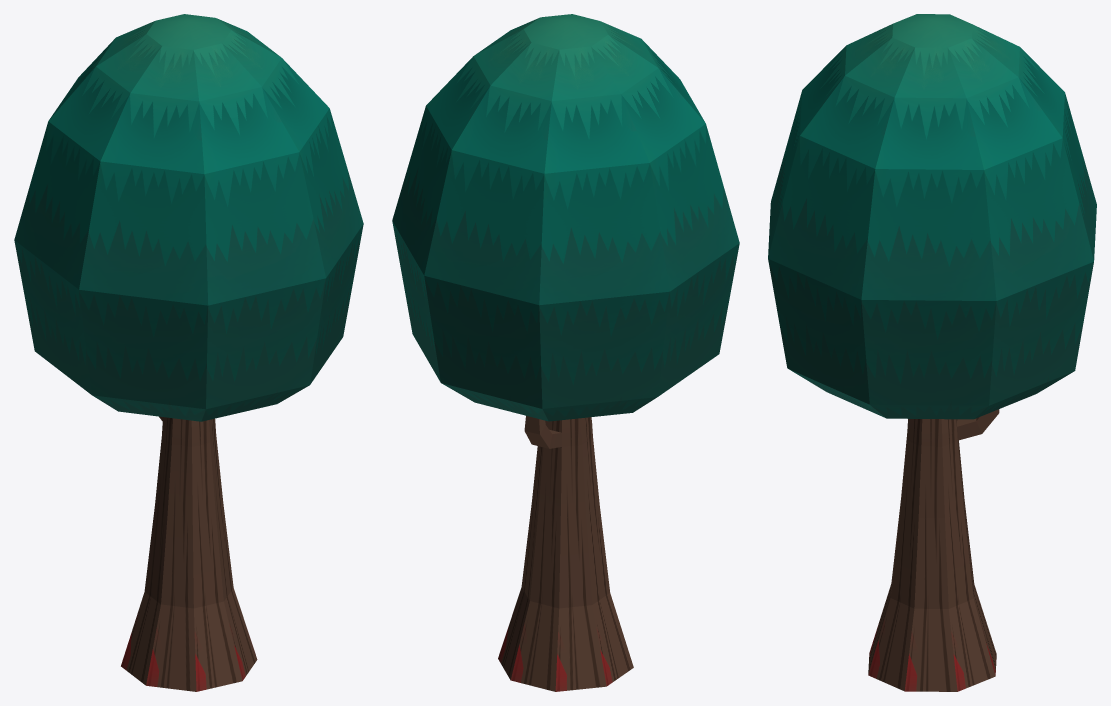
File: Tree1.fbx
3 renders of one model, left to right at view 1: azimuth 30°, elevation 25°; view 2: azimuth 150°, elevation 25°; view 3: azimuth 270°, elevation 25°, orthographic.
Visible parts, largest first — view 1: Tree1; view 2: Tree1; view 3: Tree1.
Boxes of the visible parts, x1,y1,x2,y2 form: Tree1: [14, 14, 363, 691]; Tree1: [392, 14, 739, 691]; Tree1: [768, 14, 1096, 691].
Bounding box in the file's own units: 412 × 890 × 412.
